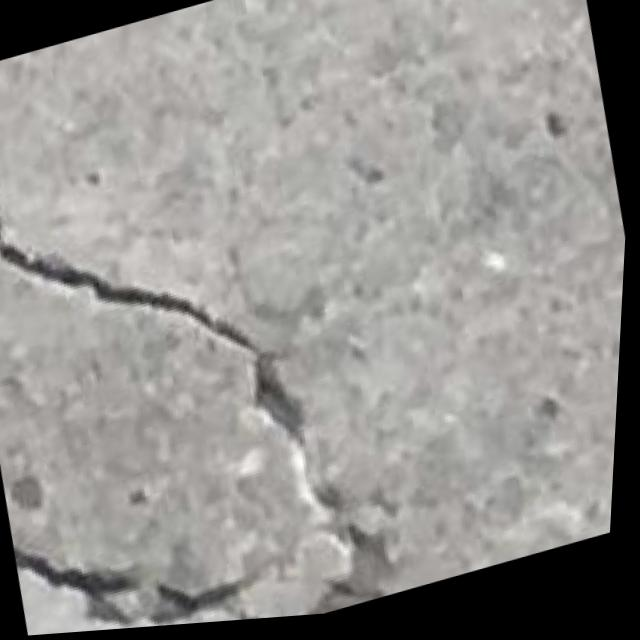Crack: (0, 79, 439, 640)
